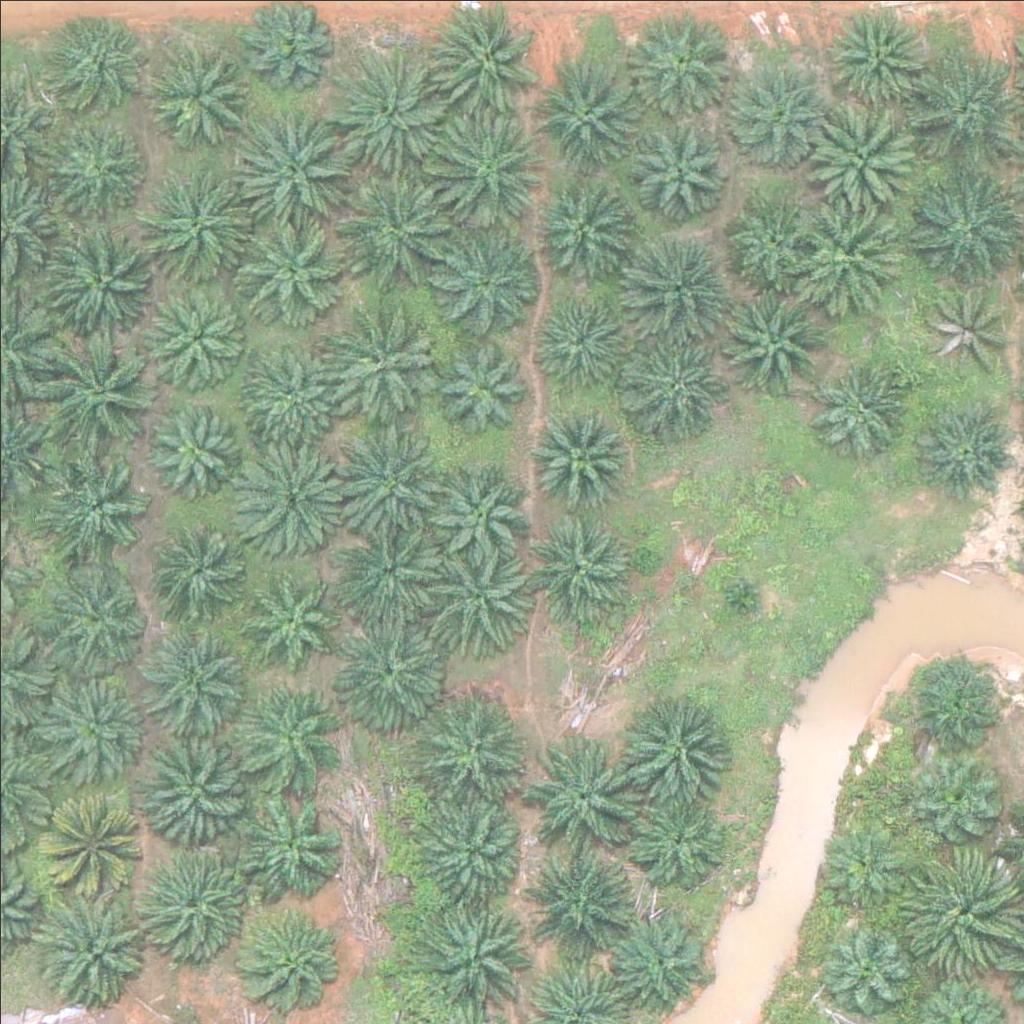Kelapa_Sawit: (43, 225, 156, 339), (236, 441, 349, 555), (327, 425, 440, 539), (333, 48, 446, 162), (436, 108, 549, 222), (410, 798, 523, 912), (620, 7, 733, 121), (533, 55, 646, 169), (419, 893, 532, 1007), (44, 332, 157, 445), (135, 726, 248, 839), (141, 168, 254, 281), (233, 784, 346, 897), (231, 207, 344, 320), (322, 308, 435, 421), (622, 687, 735, 800), (621, 229, 734, 342), (905, 857, 1018, 970), (231, 678, 343, 792), (430, 224, 542, 338), (233, 906, 345, 1020), (523, 849, 635, 963), (39, 453, 151, 566), (140, 31, 252, 144), (230, 110, 342, 223), (330, 604, 442, 717), (341, 175, 453, 288), (419, 696, 531, 809), (419, 548, 531, 661), (531, 739, 643, 852), (717, 285, 829, 398), (794, 202, 906, 315), (807, 104, 919, 217), (905, 49, 1017, 162), (909, 170, 1021, 283), (37, 888, 149, 1001), (147, 844, 259, 957), (50, 679, 150, 780), (48, 567, 148, 668), (44, 114, 144, 215), (47, 5, 147, 106), (142, 622, 242, 723), (147, 282, 247, 383), (241, 567, 341, 668), (430, 332, 530, 433), (429, 462, 529, 563), (628, 789, 728, 890), (628, 111, 728, 212), (727, 67, 827, 168), (813, 356, 913, 457), (609, 909, 709, 1010), (44, 786, 144, 886), (150, 509, 250, 609), (239, 336, 339, 436), (339, 520, 439, 620), (528, 512, 628, 612), (527, 403, 627, 503), (527, 287, 627, 387), (531, 171, 631, 271), (625, 327, 725, 427), (828, 5, 928, 105), (907, 655, 1007, 755), (916, 402, 1016, 502), (149, 400, 237, 489), (729, 196, 817, 284), (915, 760, 1003, 848), (818, 825, 906, 913), (920, 283, 1007, 371), (821, 917, 908, 1005), (720, 574, 770, 625)
